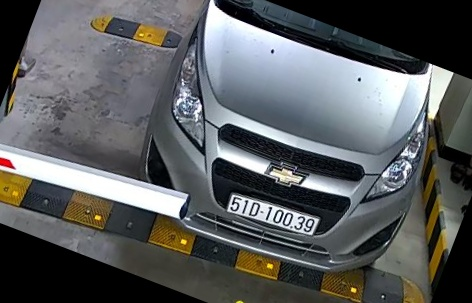plate: (229, 191, 323, 237)
